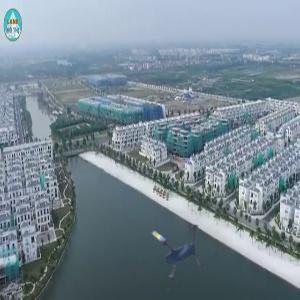drone: (135, 205, 221, 291)
